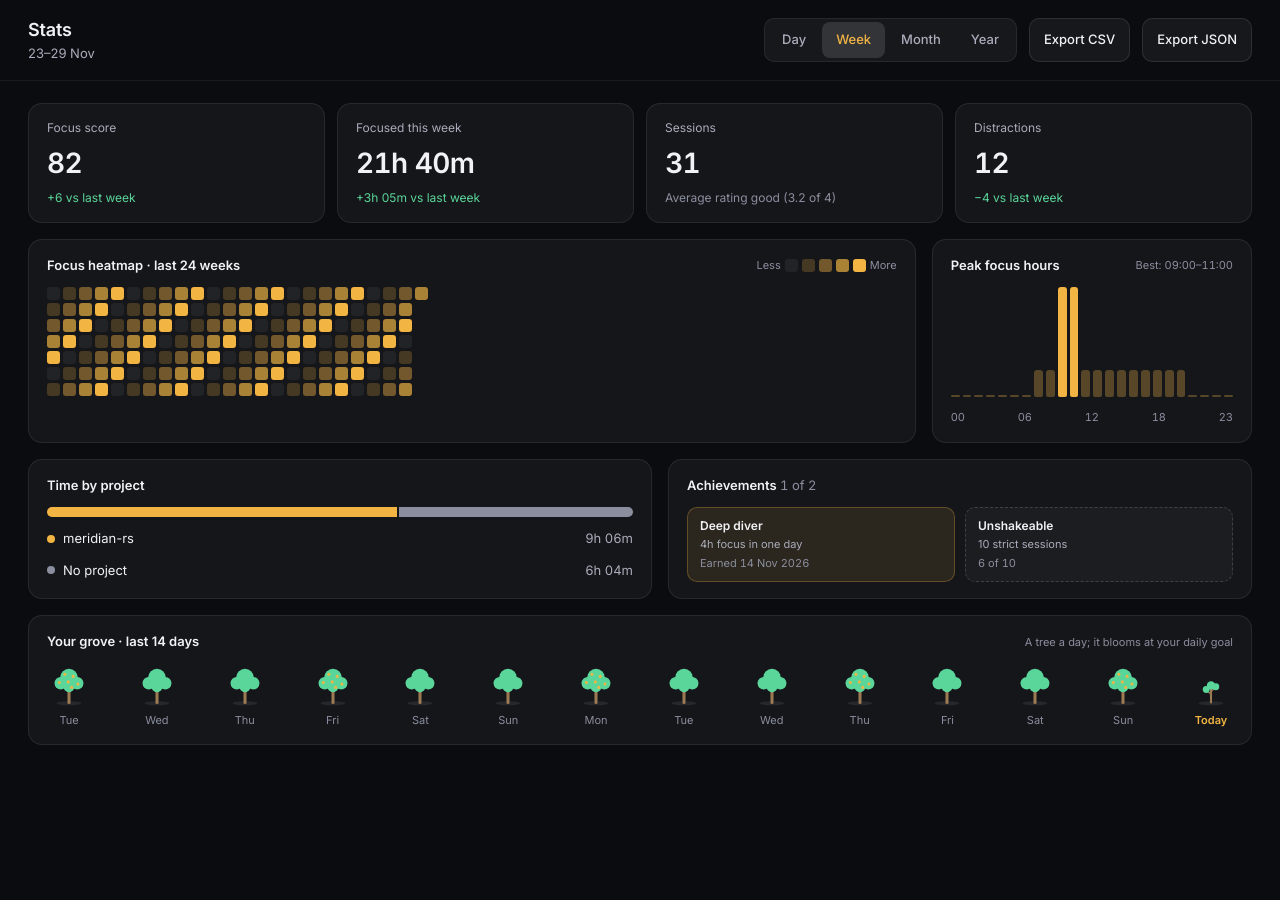
Test: StatsScreen › switches range and exports
The image size is (1280, 900).
Expected: the text "21h 40m" is shown, [356, 146, 474, 180]
Click the button "Month".
click(921, 40)  # box [887, 22, 955, 58]
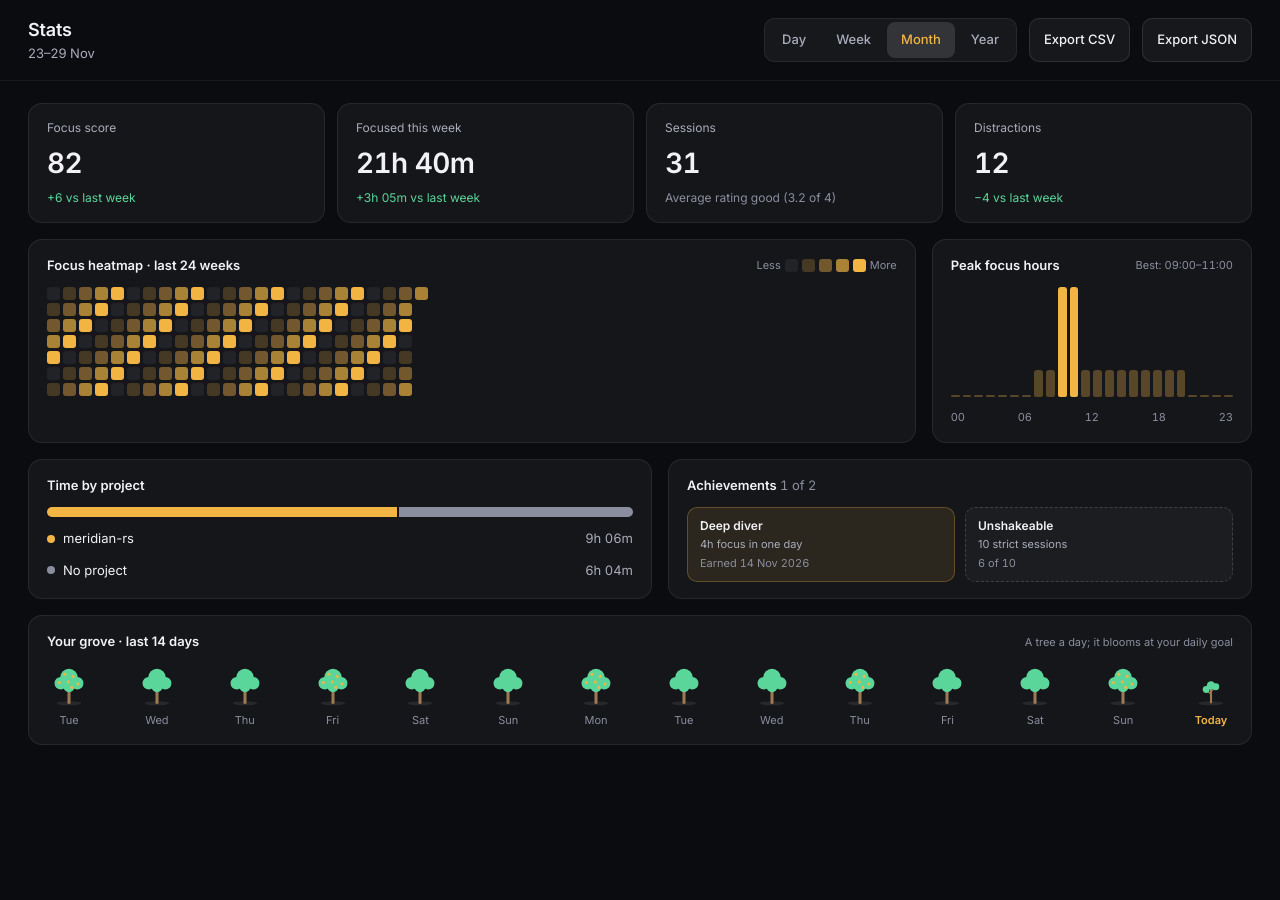
Now the button "Month" is pressed, box [887, 22, 955, 58]
Click the button "Export CSV".
click(1080, 40)  # box [1029, 18, 1130, 62]
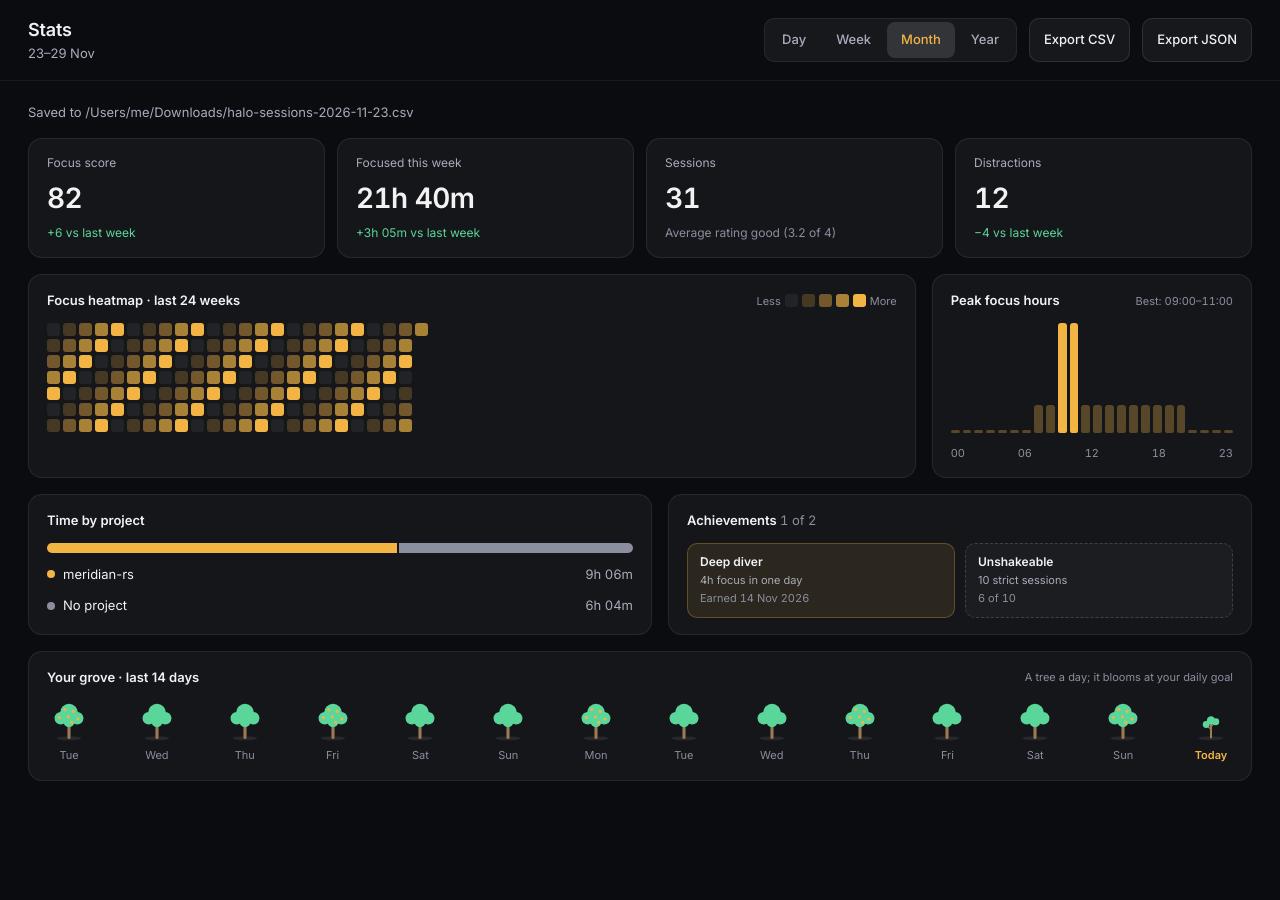
Now the text "Saved to /Users/me/Downloads/halo-sessions-2026-11-23.csv" is shown, box [28, 104, 414, 120]
